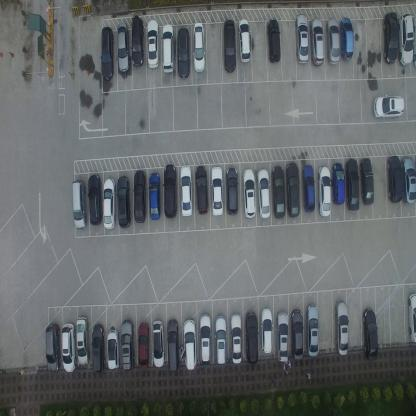car: (398, 13, 414, 67), (362, 307, 378, 361), (116, 175, 132, 228), (87, 173, 103, 226), (345, 158, 360, 213), (317, 164, 332, 218), (286, 161, 300, 218), (120, 319, 135, 372), (400, 156, 416, 205), (163, 163, 177, 219), (133, 168, 147, 224), (334, 300, 348, 356), (383, 12, 398, 64), (72, 178, 87, 230), (223, 18, 237, 73), (100, 25, 114, 80), (387, 155, 403, 203), (61, 321, 76, 372), (46, 321, 61, 372), (305, 304, 319, 358), (374, 93, 404, 118), (75, 316, 90, 366), (116, 21, 130, 74), (102, 177, 116, 230), (166, 319, 180, 372), (301, 164, 316, 213), (294, 14, 309, 63), (257, 167, 271, 219), (245, 312, 259, 364), (230, 313, 244, 365), (146, 18, 160, 70), (183, 320, 197, 372), (92, 323, 106, 374), (272, 165, 285, 219), (177, 26, 190, 80), (131, 14, 144, 68), (242, 168, 256, 218), (194, 165, 208, 215), (310, 17, 324, 67), (266, 18, 281, 64), (199, 313, 212, 366), (276, 310, 289, 363), (210, 166, 223, 218), (290, 309, 303, 361), (151, 320, 165, 368), (180, 163, 192, 218), (360, 158, 374, 205), (326, 18, 340, 65), (148, 171, 161, 221), (225, 166, 238, 215), (137, 322, 150, 371), (238, 17, 252, 62), (331, 161, 345, 206), (340, 16, 354, 61), (261, 307, 274, 355), (193, 22, 205, 74), (162, 22, 174, 74), (215, 315, 227, 366), (106, 328, 120, 371), (406, 292, 416, 345)
